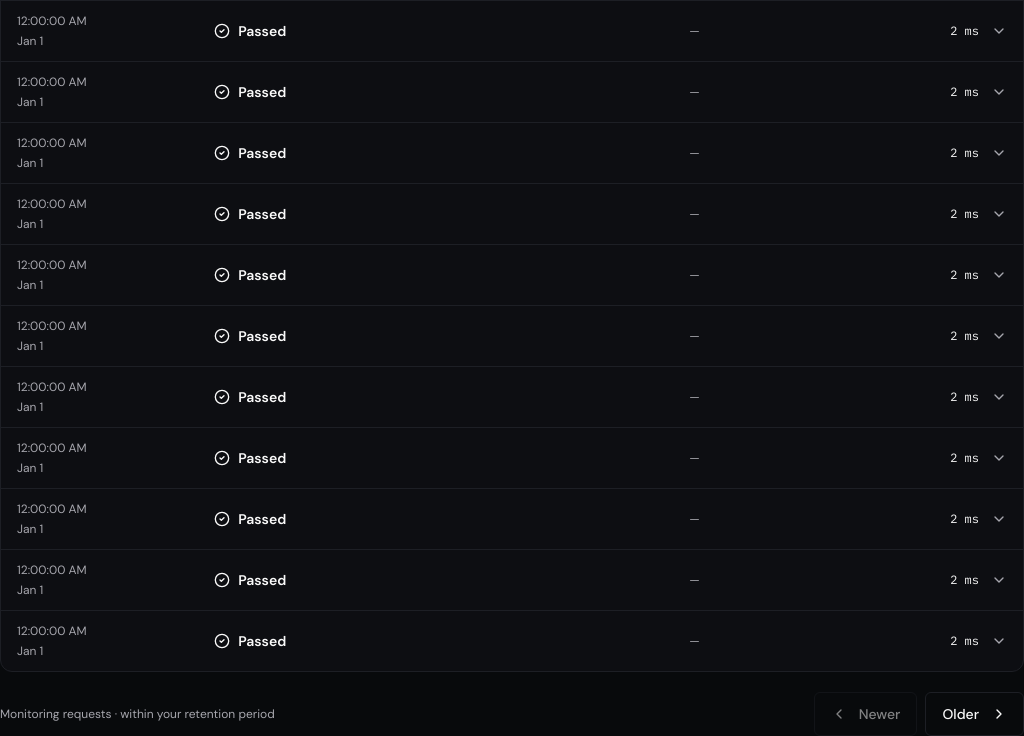
Test case: monitor check history › shows full-day counts separately and pages through retained checks
(page scrolled)
Click the button "Older": (975, 714) 925,692 -> 1023,735
(page scrolled)
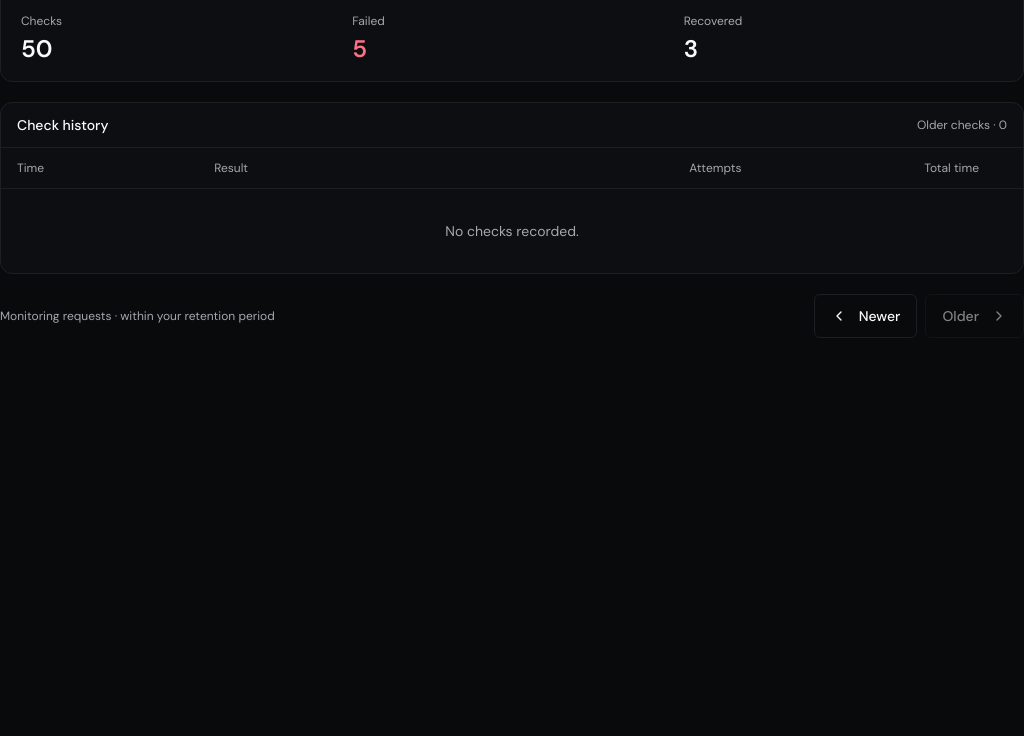
Check: the text "No checks recorded." is shown, box 445,222 -> 579,240
Check: the button "Newer" is enabled, box 814,294 -> 917,338
